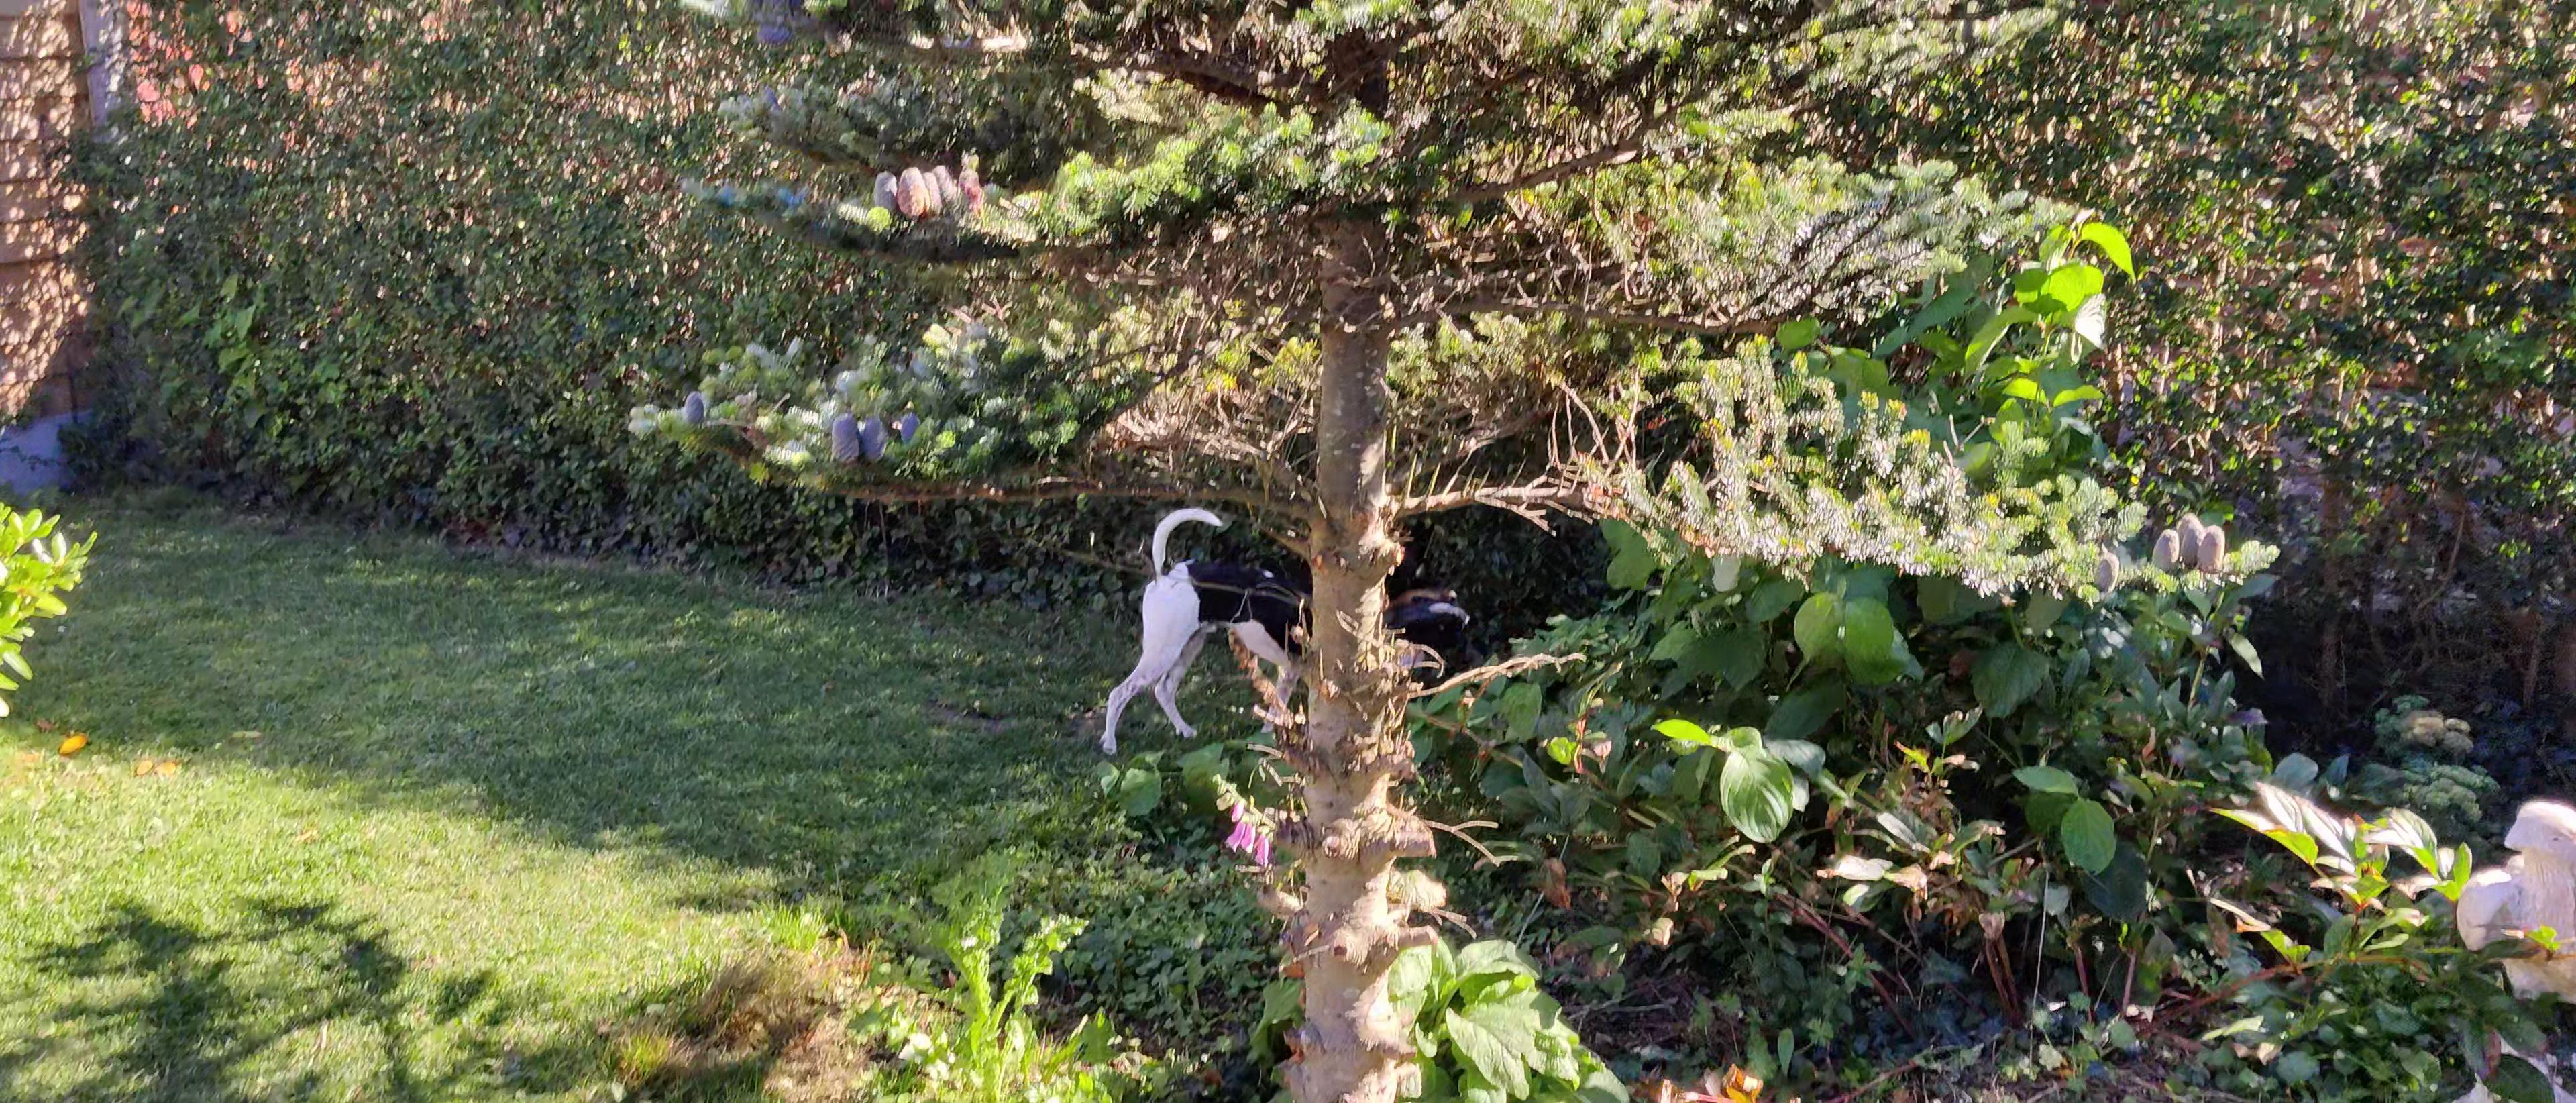Dog: (1097, 500, 1462, 756)
